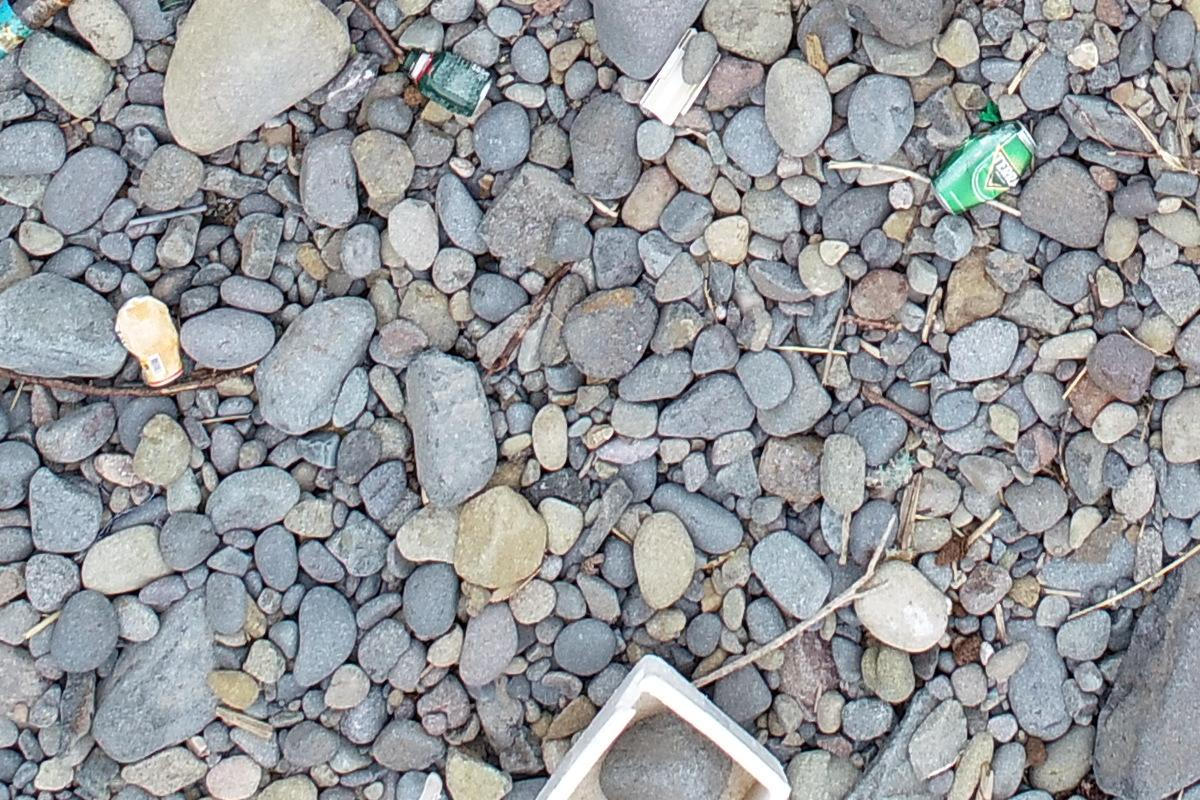(11)Metal: (929, 118, 1040, 218), (400, 47, 496, 119), (0, 0, 105, 64), (114, 294, 183, 390), (120, 0, 186, 12)
(11)Styrofoam_Box: (527, 654, 793, 800)
